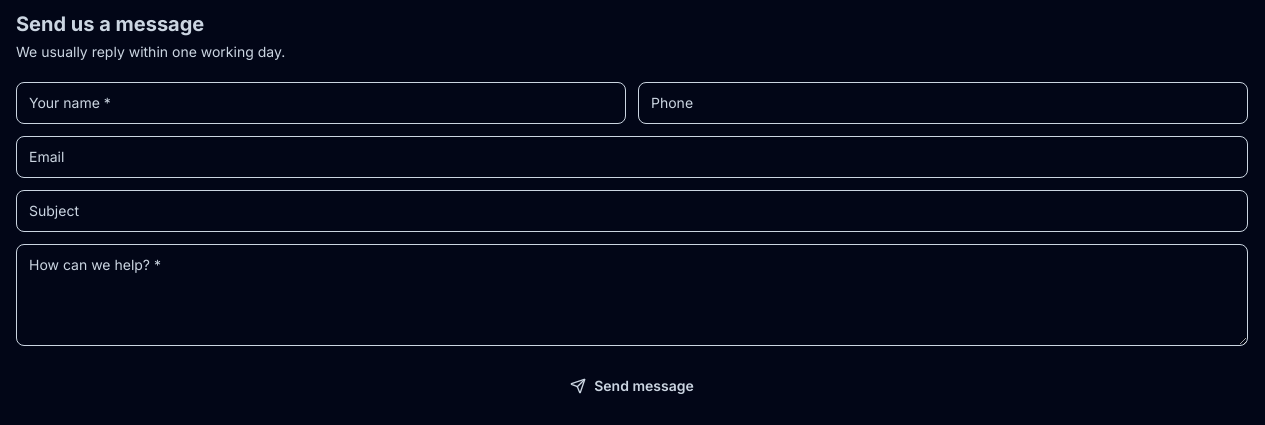
Test: contact form › bhejta hai (page ke saath) aur success dikhata hai
The width and height of the screenshot is (1265, 425).
Type "Riya" into the field labelled "Your name" at (321, 103), box [16,82,626,124]
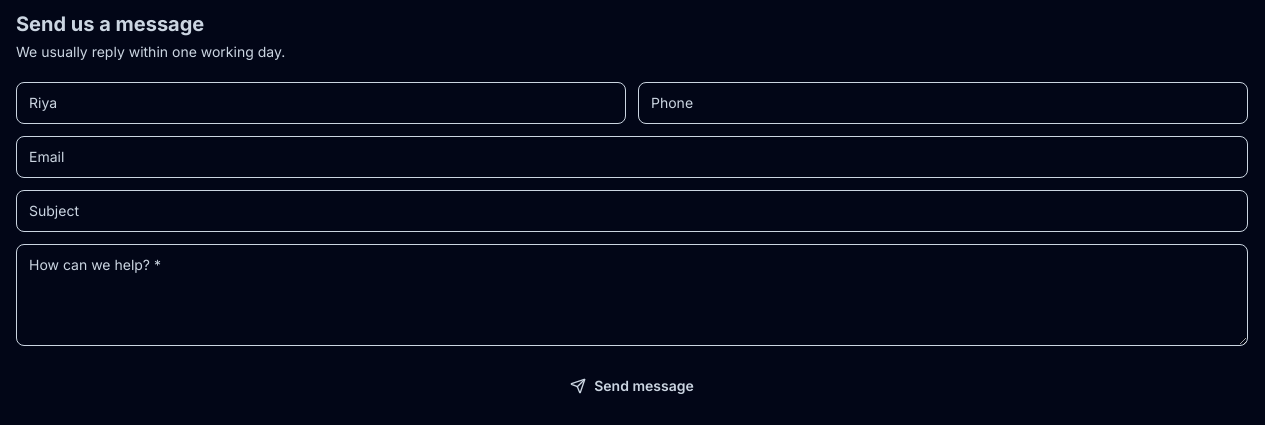
Type "9876543210" into the field labelled "Phone" at (943, 103), box [638,82,1248,124]
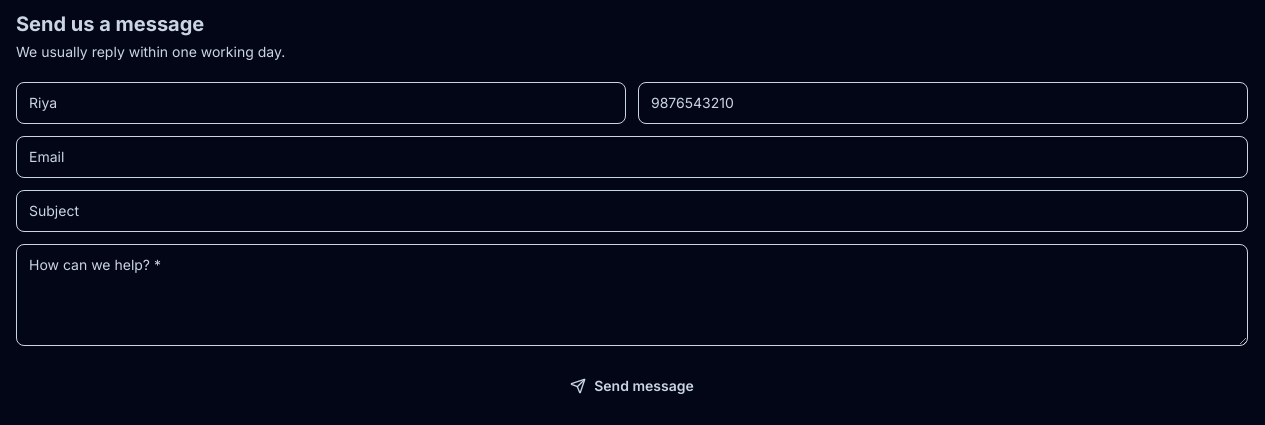
Type "Is admission open?" into the text box named "Message" at (632, 295), box [16,244,1248,346]
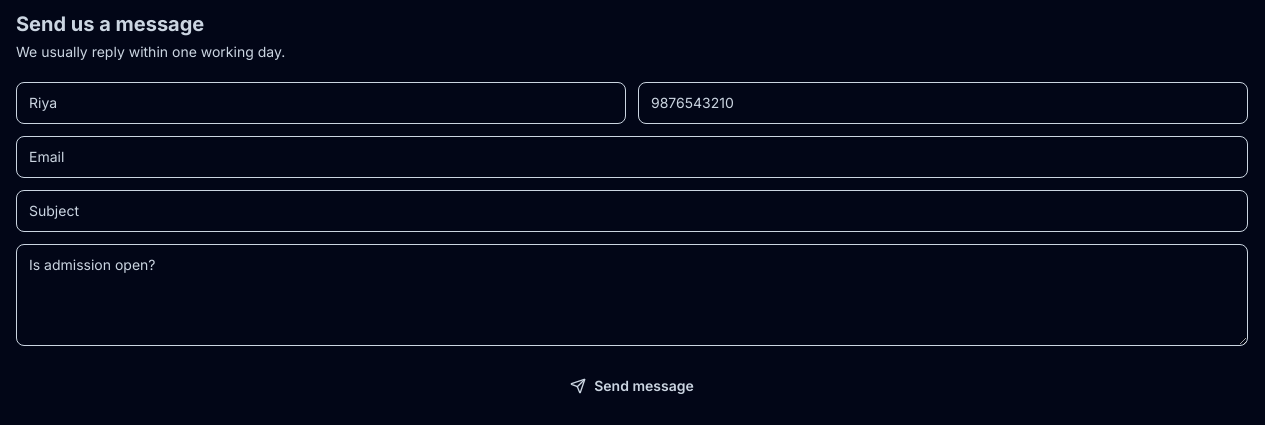
Submit the form named "Contact form"
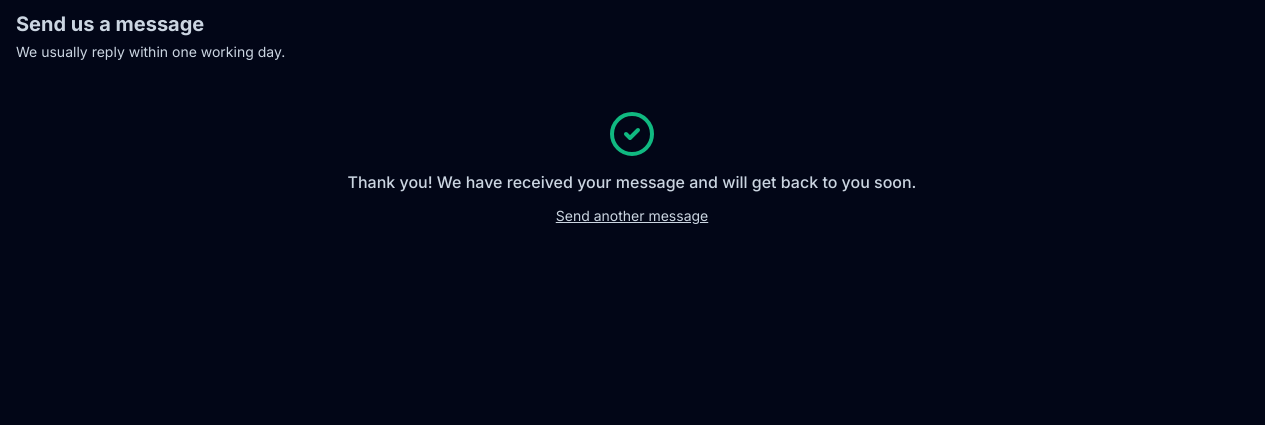
expect the message shows "Thank you": met, box [348,172,916,192]
